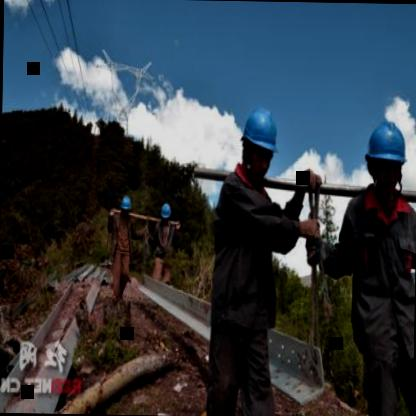helmet: (362, 117, 410, 202), (238, 100, 283, 186), (118, 192, 134, 220), (156, 199, 173, 224)
